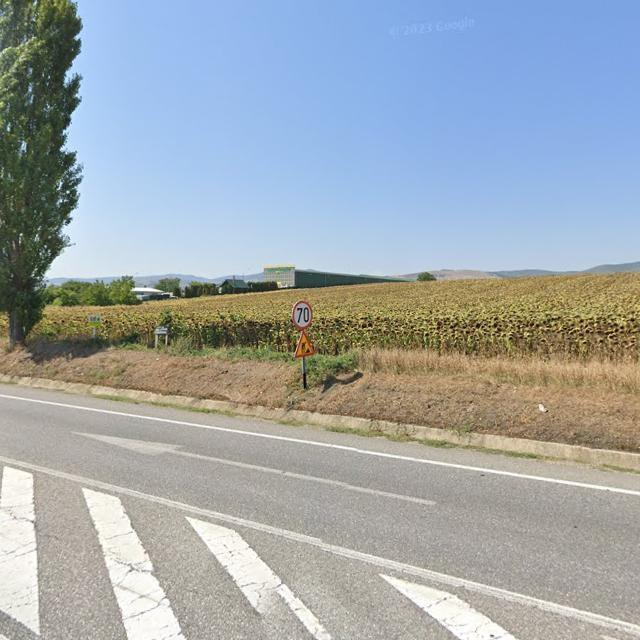forb_speed_over_70: (292, 300, 314, 331)
